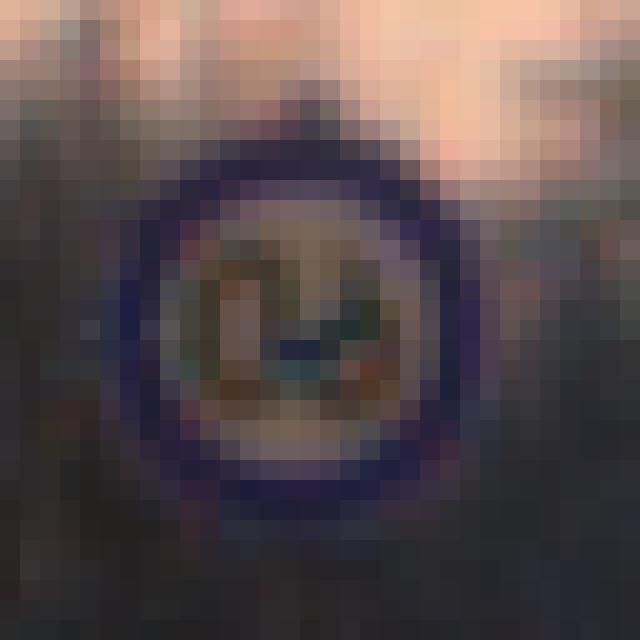SPEED-LIMIT-60: (87, 84, 504, 542)
